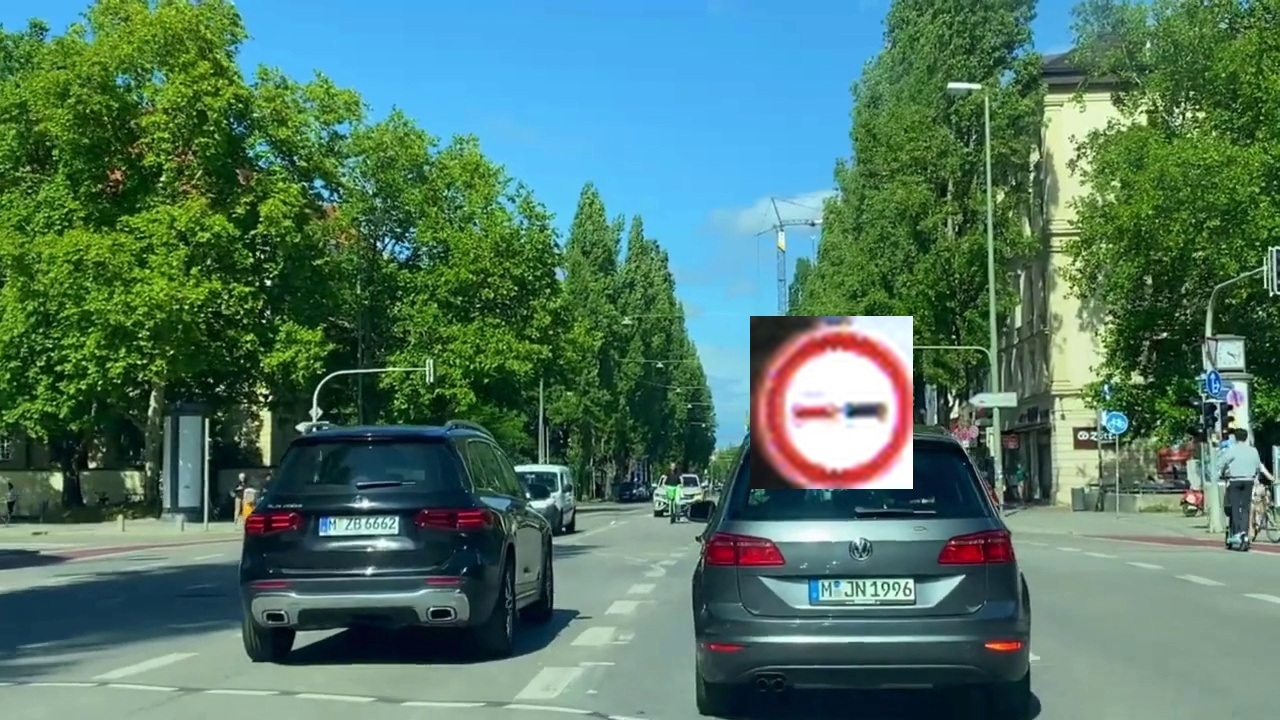No passing: (750, 316, 913, 489)
